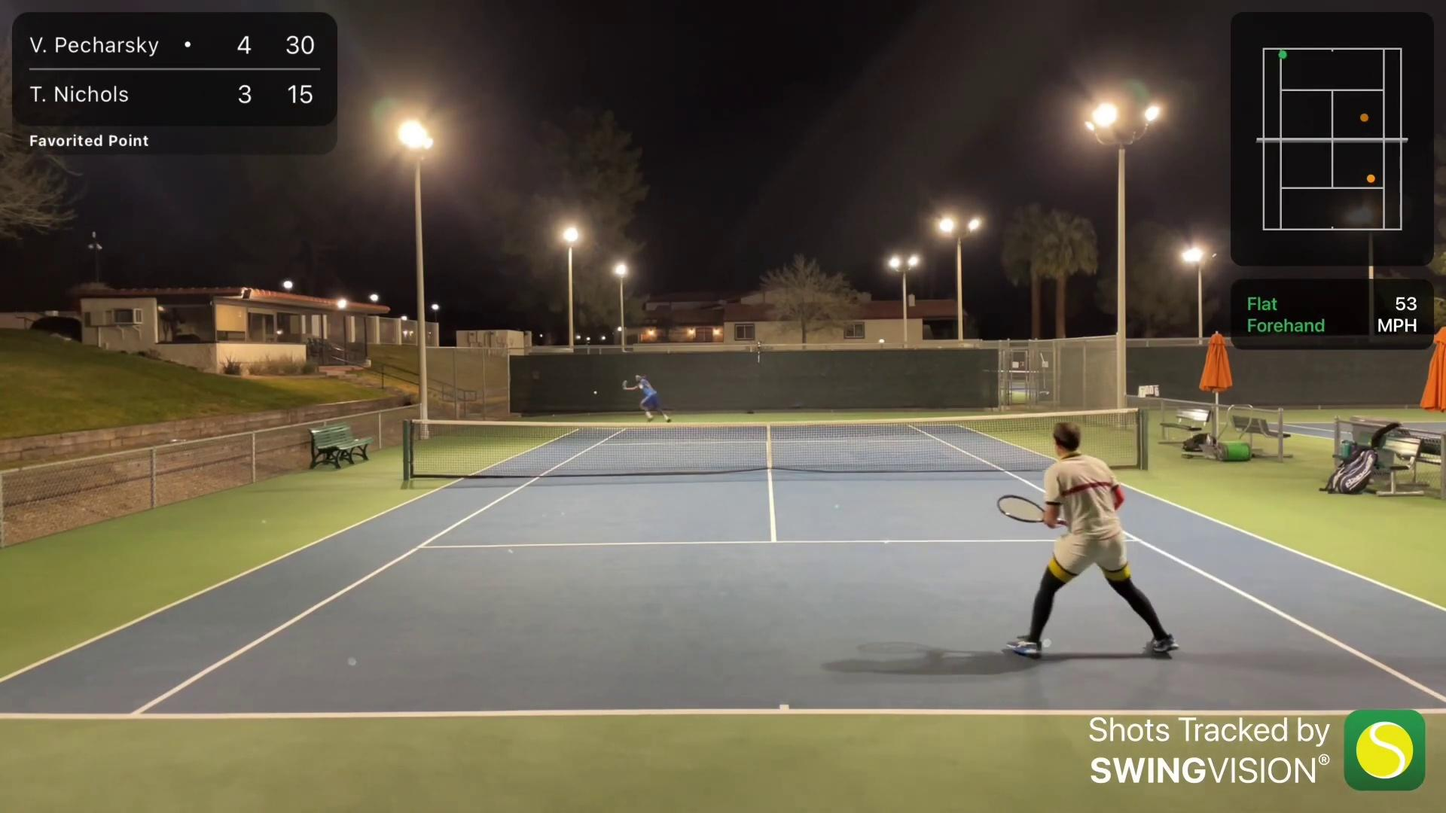ball: (592, 390, 597, 395)
